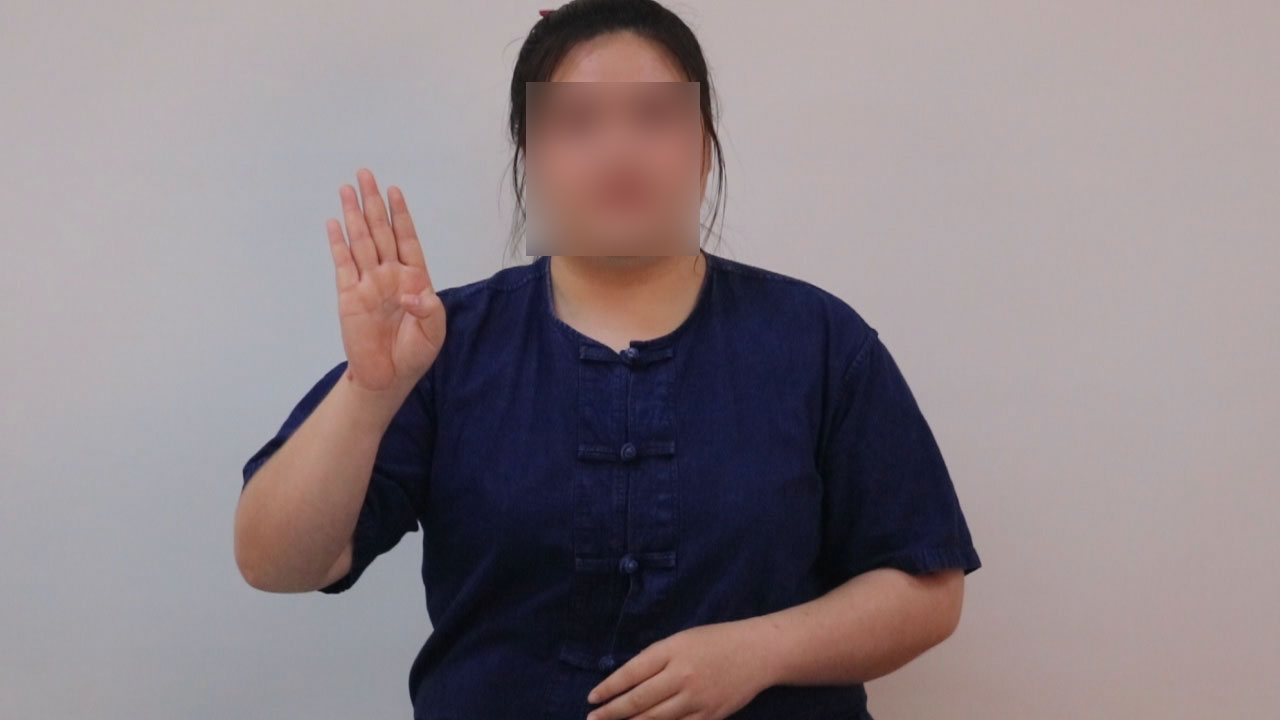bor: (310, 154, 464, 403)
